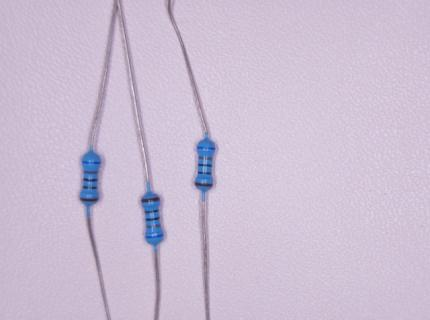Black band: (145, 209, 159, 214), (146, 217, 159, 221), (198, 171, 211, 175), (83, 178, 98, 181), (83, 186, 97, 189), (199, 164, 212, 167)
Blue band: (82, 160, 101, 164), (145, 234, 164, 238), (197, 146, 215, 150)
Brown band: (142, 196, 159, 202), (196, 183, 213, 186), (82, 198, 98, 201)
Grey band: (146, 224, 161, 229), (198, 156, 213, 161), (83, 170, 99, 174)
